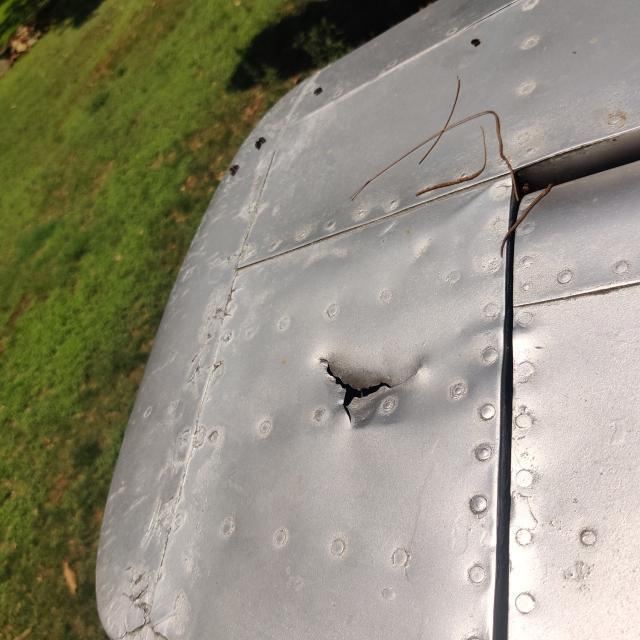Crack: (309, 339, 425, 432)
